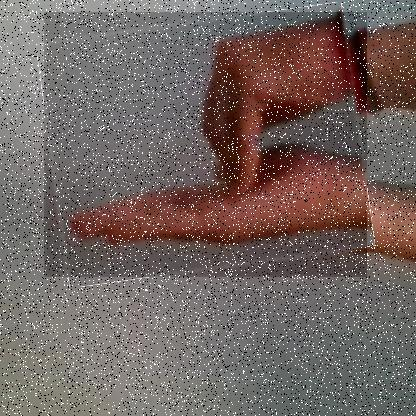Z: (43, 12, 367, 278)
